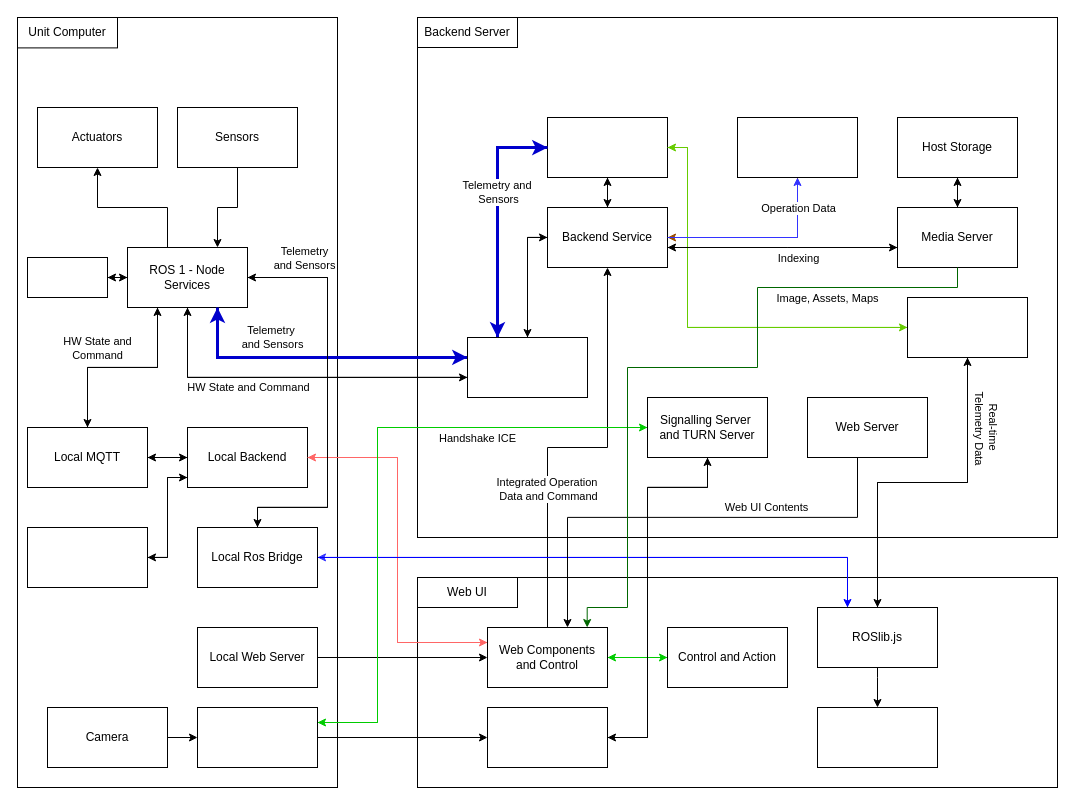
Some shapes in this 1075 by 805 pixel diagram are drawn without their labels. Each missing label, with the centre of its shape:
"Local DB and Storage" goes at (x=87, y=557).
"MQTT Broker" goes at (x=527, y=367).
"MySQL Database" goes at (x=797, y=147).
"Operation Supervisor" goes at (x=67, y=277).
"ROS 1" goes at (x=607, y=147).
"ROS Bridge" goes at (x=967, y=327).
"Video Streamer" goes at (x=257, y=737).
"Video Subscriber" goes at (x=547, y=737).
"Visualizer" goes at (x=877, y=737).
